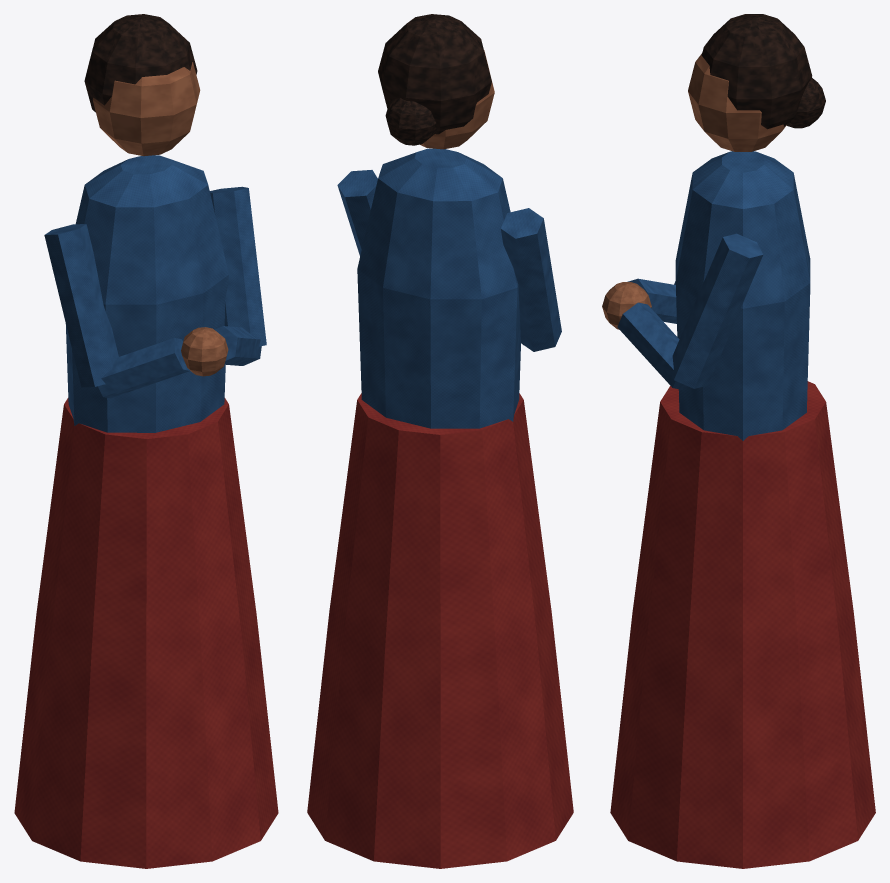
Rendered from persona_mujer3.obj.
3 renders of one model, left to right at view 1: azimuth 30°, elevation 25°; view 2: azimuth 150°, elevation 25°; view 3: azimuth 270°, elevation 25°, orthographic.
Parts seen in each view (by area): view 1: Pieza, Pieza.001, Cylinder, Sphere.003, Sphere.004, Cylinder.002, Cylinder.001, Sphere.002, Cylinder.003; view 2: Pieza, Pieza.001, Sphere.004, Cylinder, Cylinder.002, Sphere.005, Sphere.003; view 3: Pieza, Pieza.001, Sphere.004, Cylinder.002, Sphere.003, Cylinder.003, Sphere.002, Cylinder.001, Sphere.005.
Part boxes in pixels (x1,y1,x2,y2): Pieza: (14, 398, 278, 868); Pieza.001: (65, 155, 228, 432); Cylinder: (44, 224, 118, 387); Sphere.003: (92, 62, 200, 156); Sphere.004: (84, 14, 197, 112); Cylinder.002: (209, 186, 266, 346); Cylinder.001: (98, 338, 190, 398); Sphere.002: (181, 327, 228, 376); Cylinder.003: (214, 326, 261, 365); Pieza: (307, 393, 573, 868); Pieza.001: (357, 148, 520, 428); Sphere.004: (378, 14, 491, 134); Cylinder: (500, 208, 561, 351); Cylinder.002: (337, 170, 377, 256); Sphere.005: (385, 98, 436, 145); Sphere.003: (420, 50, 494, 149); Pieza: (610, 381, 875, 868); Pieza.001: (675, 151, 810, 440); Sphere.004: (701, 14, 812, 129); Cylinder.002: (671, 233, 763, 388); Sphere.003: (688, 53, 786, 151); Cylinder.003: (617, 302, 686, 389); Sphere.002: (602, 282, 651, 329); Cylinder.001: (627, 278, 676, 323); Sphere.005: (787, 78, 825, 128).
Bounding box in the file's own units: 0.48 × 1.63 × 0.495.
5 materials, 5 textured.
